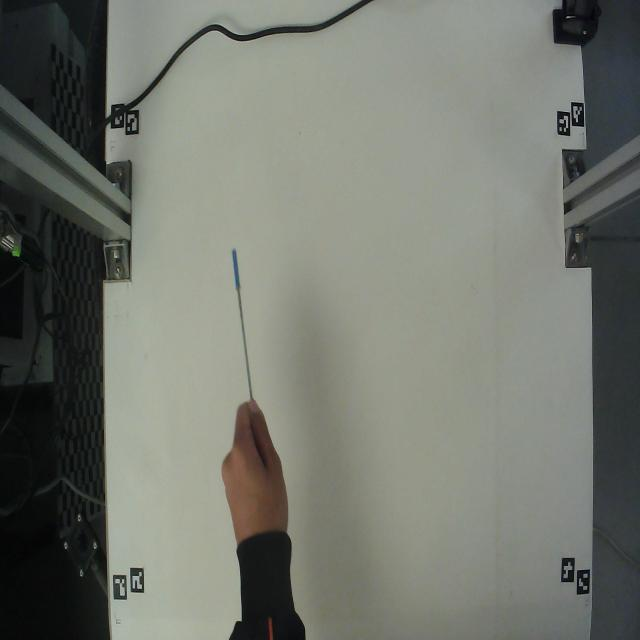NoPres: (208, 231, 269, 399)
